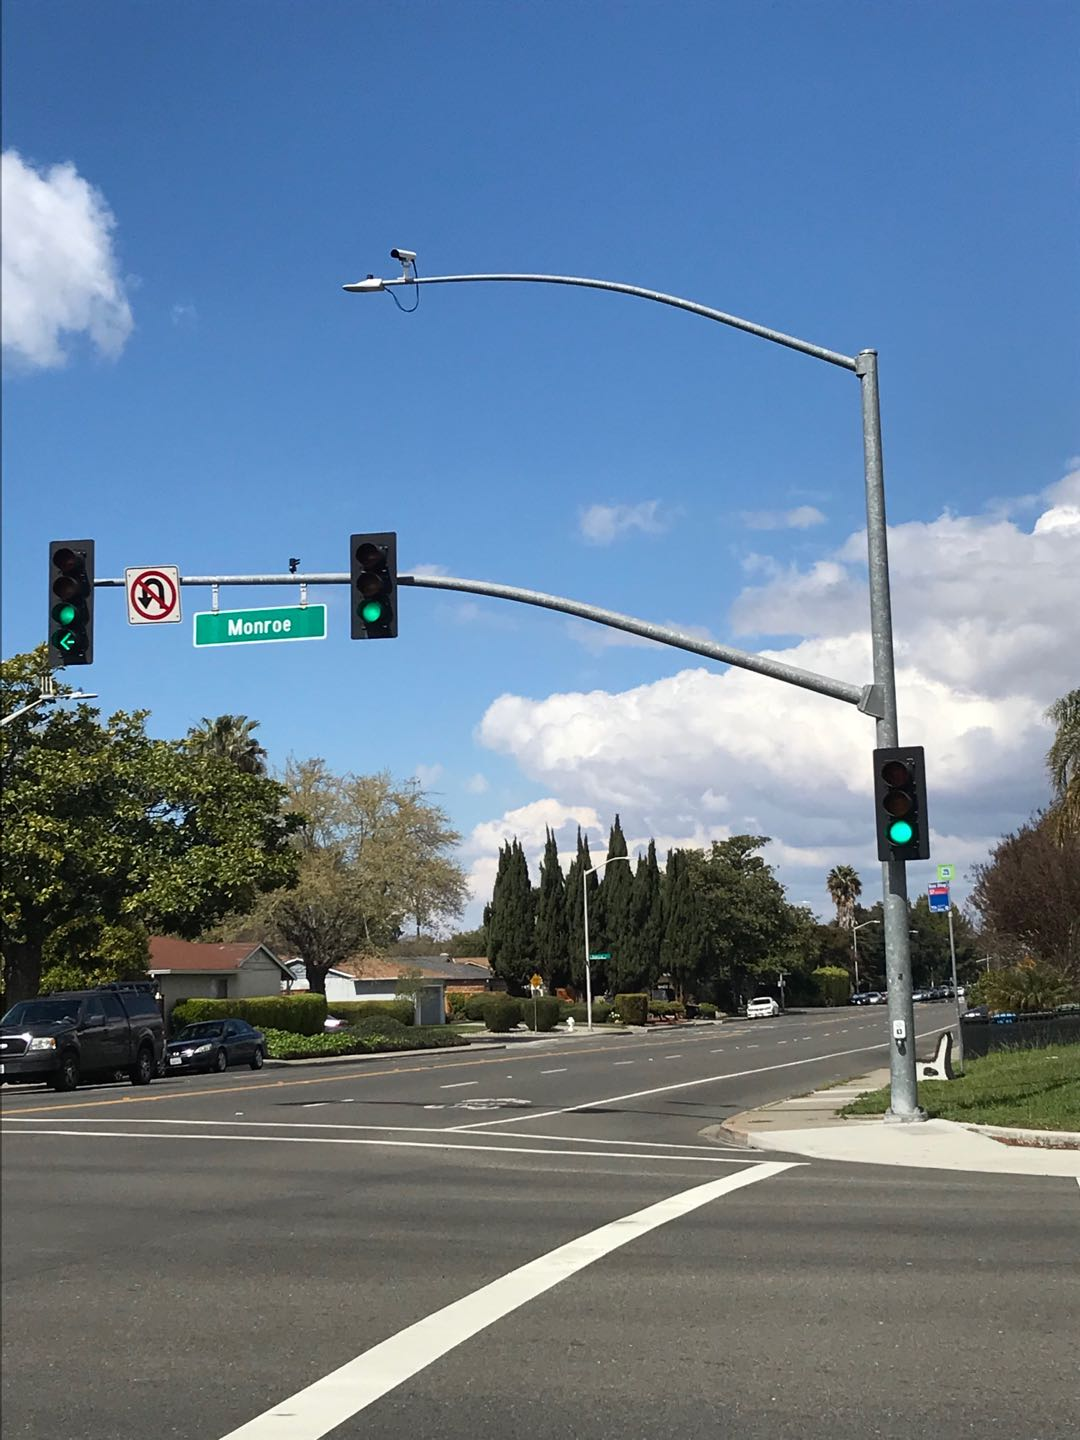green_light: (875, 749, 923, 858), (51, 547, 90, 663), (354, 537, 393, 638)
